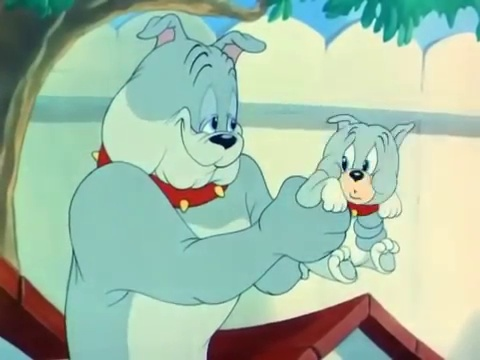spike: (88, 9, 269, 214)
